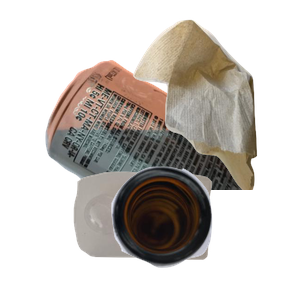glass: (109, 164, 300, 300)
metal: (43, 58, 283, 238)
plastic: (71, 169, 275, 300)
trash: (131, 17, 300, 197)
